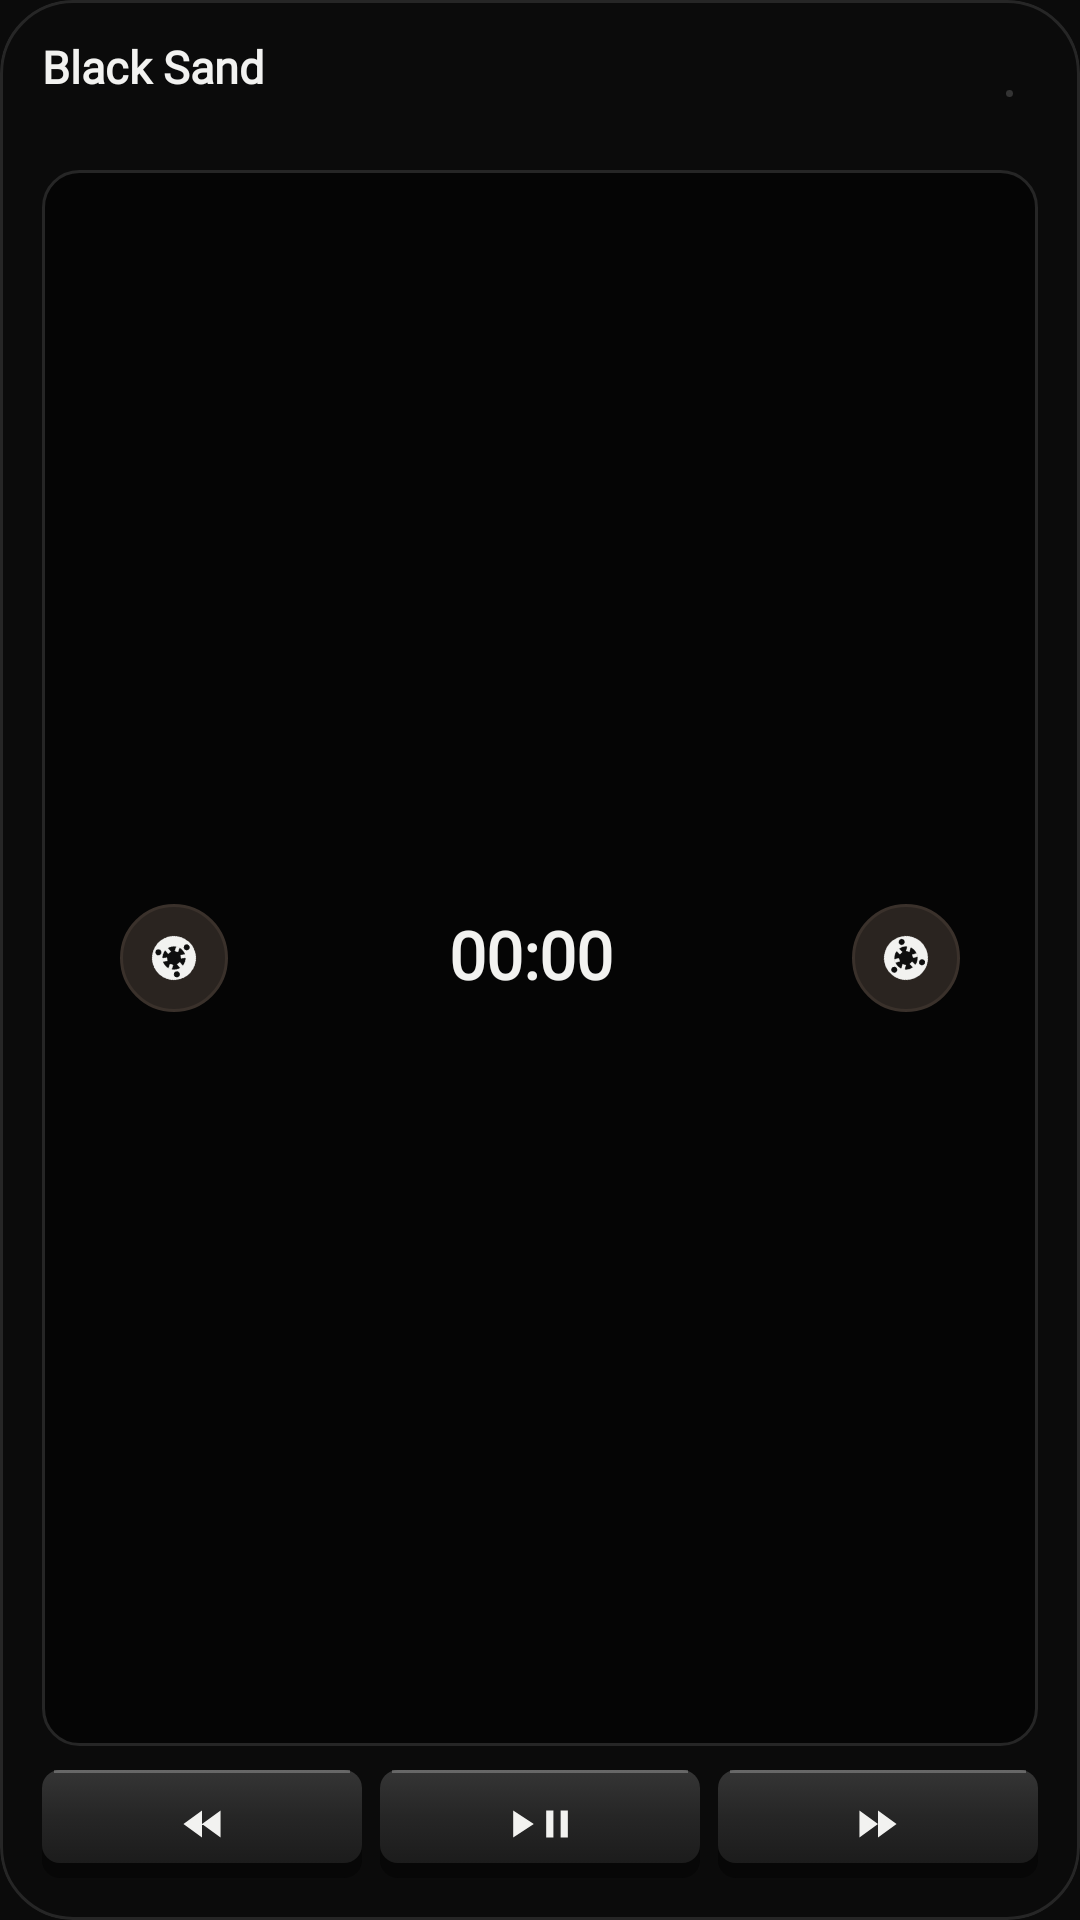

Named icons in this screenshot (1080w x 1920h) and their centers, (x,y):
Next: (878,1804)
Play or pause: (540,1804)
Previous: (202,1804)
